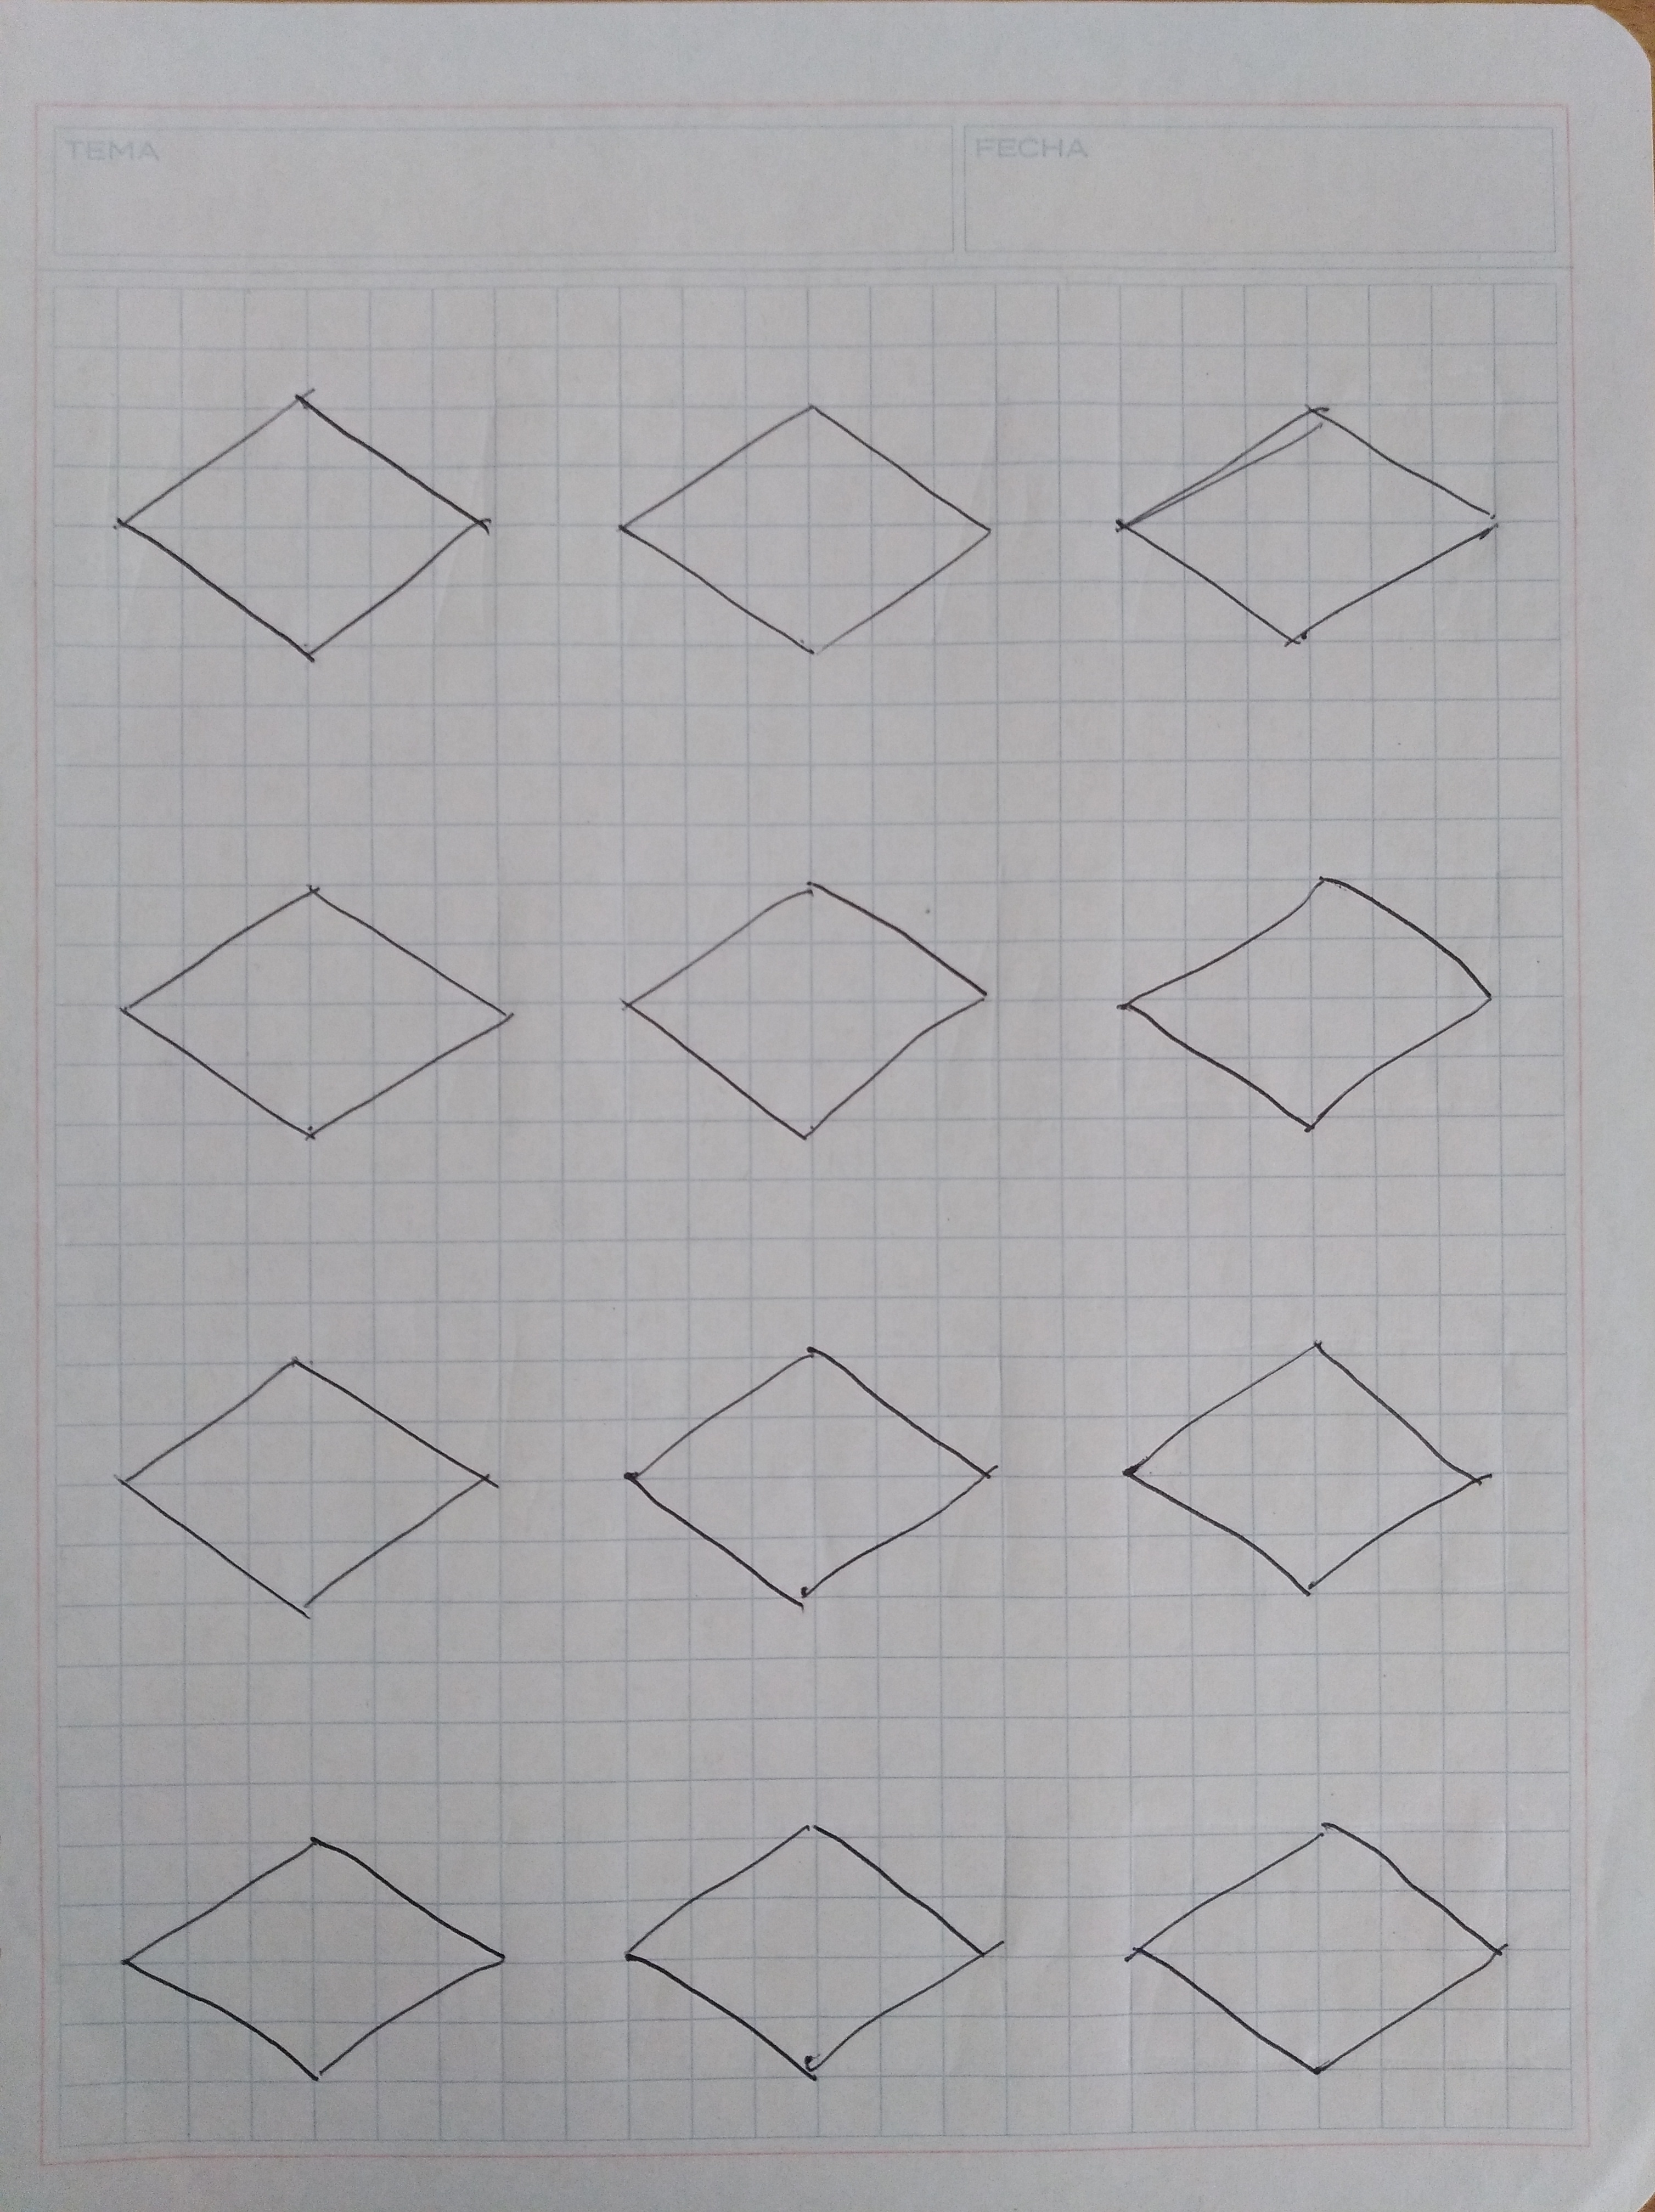decision: (89, 337, 527, 709), (1080, 822, 1535, 1161), (582, 358, 1027, 695), (1090, 348, 1542, 674), (71, 1333, 544, 1642), (92, 855, 537, 1164), (596, 1321, 1027, 1639), (89, 1804, 546, 2101), (593, 846, 1017, 1164), (1102, 1797, 1539, 2103), (610, 1795, 1033, 2106), (1100, 1314, 1514, 1625)
